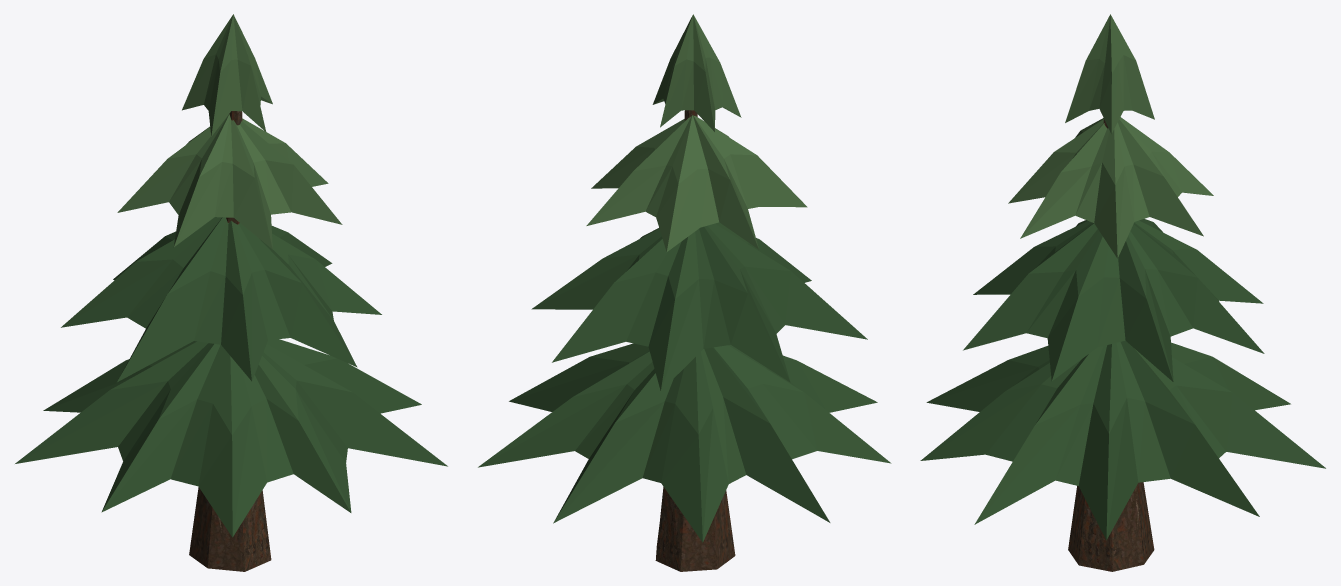
File: pine_tree_lod1.glb
3 views of the same model, side by side, from view 1: azimuth 30°, elevation 25°; view 2: azimuth 150°, elevation 25°; view 3: azimuth 270°, elevation 25° (orthographic).
Parts seen in each view (by area): view 1: PineTreeLOD1; view 2: PineTreeLOD1; view 3: PineTreeLOD1.
Part boxes in pixels (x1,y1,x2,y2): PineTreeLOD1: [15, 14, 447, 571]; PineTreeLOD1: [478, 14, 891, 571]; PineTreeLOD1: [920, 14, 1325, 571].
Bounding box in the file's own units: 3.1 × 4.38 × 2.99.
3 materials, 1 textured.
